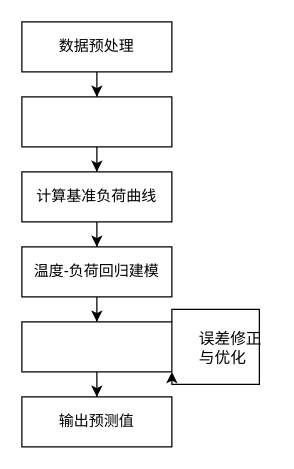
Some shapes in this 294 by 469 pixel diagram are drawn without their labels. Each missing label, with the box of its shape:
温度分段与季节划分: (21, 96, 172, 147)
负荷分解: (21, 321, 172, 372)
